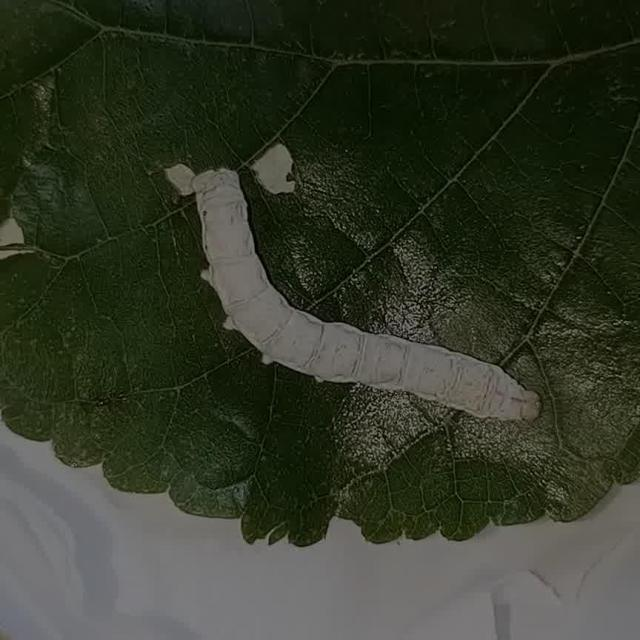Healthy: (168, 135, 560, 455)
